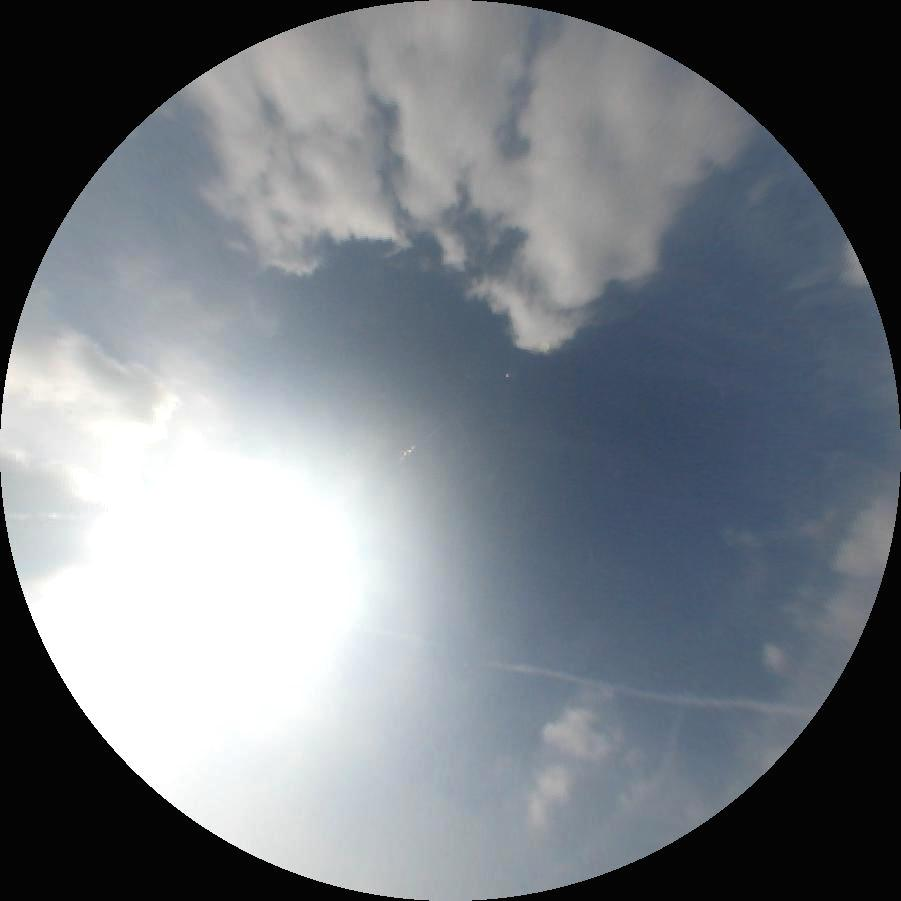contrail old: (487, 660, 811, 722)
sun: (78, 516, 331, 710)
